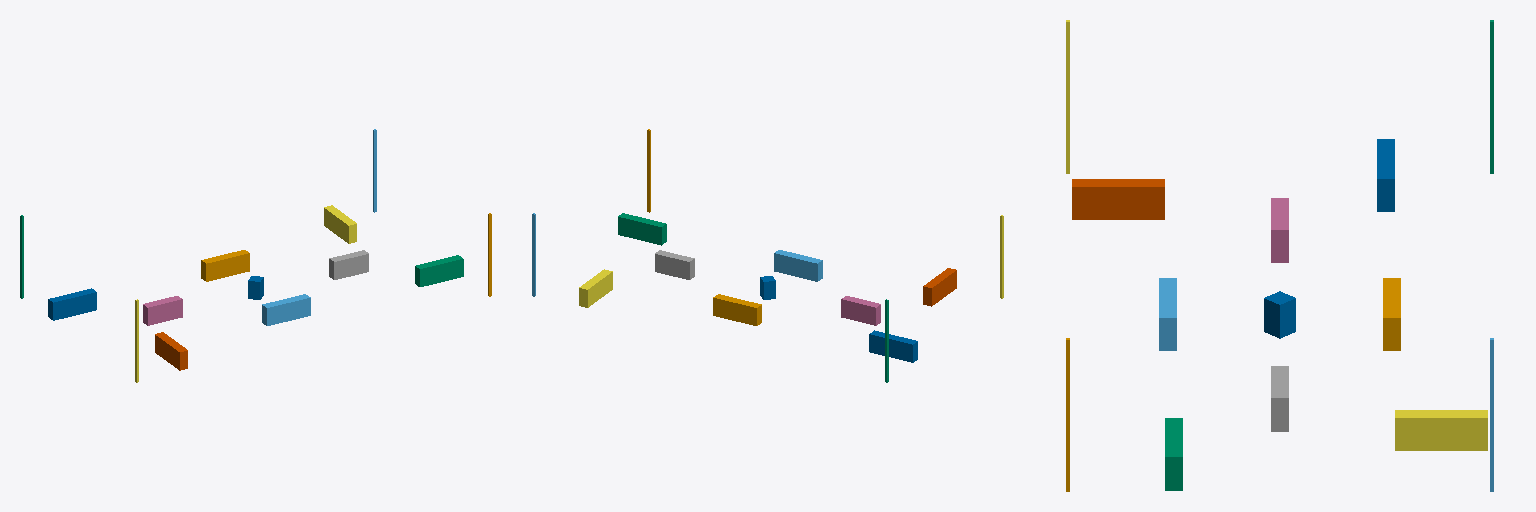
URDF robot description (unnamed):
<?xml version="1.0"?>
<!-- created with Phobos 1.0.1 "Capricious Choutengan" -->
  <robot name="unnamed">

    <link name="LA1">
      <inertial>
        <origin xyz="0 0 0" rpy="0 0 0"/>
        <mass value="0.001"/>
        <inertia ixx="0.001" ixy="0" ixz="0" iyy="0.001" iyz="0" izz="0.001"/>
      </inertial>
      <visual name="A1">
        <origin xyz="0 0 0" rpy="0 0 0"/>
        <geometry>
          <box size="1.0 0.2 0.4"/>
        </geometry>
      </visual>
      <collision name="A1">
        <origin xyz="0 0 0" rpy="0 0 0"/>
        <geometry>
          <box size="1.0 0.2 0.4"/>
        </geometry>
      </collision>
    </link>

    <link name="LA2">
      <inertial>
        <origin xyz="0 0 0" rpy="0 0 0"/>
        <mass value="0.001"/>
        <inertia ixx="0.001" ixy="0" ixz="0" iyy="0.001" iyz="0" izz="0.001"/>
      </inertial>
      <visual name="A2">
        <origin xyz="0 0 0" rpy="0 0 0"/>
        <geometry>
          <box size="1.0 0.2 0.4"/>
        </geometry>
      </visual>
      <collision name="A2">
        <origin xyz="0 0 0" rpy="0 0 0"/>
        <geometry>
          <box size="1.0 0.2 0.4"/>
        </geometry>
      </collision>
    </link>

    <link name="LA3">
      <inertial>
        <origin xyz="0 0 0" rpy="0 0 0"/>
        <mass value="0.001"/>
        <inertia ixx="0.001" ixy="0" ixz="0" iyy="0.001" iyz="0" izz="0.001"/>
      </inertial>
      <visual name="A3">
        <origin xyz="0 0 0" rpy="0 0 0"/>
        <geometry>
          <box size="1.0 0.2 0.4"/>
        </geometry>
      </visual>
      <collision name="A3">
        <origin xyz="0 0 0" rpy="0 0 0"/>
        <geometry>
          <box size="1.0 0.2 0.4"/>
        </geometry>
      </collision>
    </link>

    <link name="LA4">
      <inertial>
        <origin xyz="0 0 0" rpy="0 0 0"/>
        <mass value="0.001"/>
        <inertia ixx="0.001" ixy="0" ixz="0" iyy="0.001" iyz="0" izz="0.001"/>
      </inertial>
      <visual name="A4">
        <origin xyz="0 0 0" rpy="0 0 0"/>
        <geometry>
          <box size="1.0 0.2 0.4"/>
        </geometry>
      </visual>
      <collision name="A4">
        <origin xyz="0 0 0" rpy="0 0 0"/>
        <geometry>
          <box size="1.0 0.2 0.4"/>
        </geometry>
      </collision>
    </link>

    <link name="LA5">
      <inertial>
        <origin xyz="0 0 0" rpy="0 0 0"/>
        <mass value="0.001"/>
        <inertia ixx="0.001" ixy="0" ixz="0" iyy="0.001" iyz="0" izz="0.001"/>
      </inertial>
      <visual name="A5">
        <origin xyz="0 0 0" rpy="0 0 0"/>
        <geometry>
          <box size="1.0 0.2 0.4"/>
        </geometry>
      </visual>
      <collision name="A5">
        <origin xyz="0 0 0" rpy="0 0 0"/>
        <geometry>
          <box size="1.0 0.2 0.4"/>
        </geometry>
      </collision>
    </link>

    <link name="LA6">
      <inertial>
        <origin xyz="0 0 0" rpy="0 0 0"/>
        <mass value="0.001"/>
        <inertia ixx="0.001" ixy="0" ixz="0" iyy="0.001" iyz="0" izz="0.001"/>
      </inertial>
      <visual name="A6">
        <origin xyz="0 0 0" rpy="0 0 0"/>
        <geometry>
          <box size="1.0 0.2 0.4"/>
        </geometry>
      </visual>
      <collision name="A6">
        <origin xyz="0 0 0" rpy="0 0 0"/>
        <geometry>
          <box size="1.0 0.2 0.4"/>
        </geometry>
      </collision>
    </link>

    <link name="LB1">
      <inertial>
        <origin xyz="0 0 0" rpy="0 0 0"/>
        <mass value="0.001"/>
        <inertia ixx="0.001" ixy="0" ixz="0" iyy="0.001" iyz="0" izz="0.001"/>
      </inertial>
      <visual name="B1">
        <origin xyz="0 0 0" rpy="0 0 0"/>
        <geometry>
          <box size="0.8 0.2 0.4"/>
        </geometry>
      </visual>
      <collision name="B1">
        <origin xyz="0 0 0" rpy="0 0 0"/>
        <geometry>
          <box size="0.8 0.2 0.4"/>
        </geometry>
      </collision>
    </link>

    <link name="LB2">
      <inertial>
        <origin xyz="0 0 0" rpy="0 0 0"/>
        <mass value="0.001"/>
        <inertia ixx="0.001" ixy="0" ixz="0" iyy="0.001" iyz="0" izz="0.001"/>
      </inertial>
      <visual name="B2">
        <origin xyz="0 0 0" rpy="0 0 0"/>
        <geometry>
          <box size="0.8 0.2 0.4"/>
        </geometry>
      </visual>
      <collision name="B2">
        <origin xyz="0 0 0" rpy="0 0 0"/>
        <geometry>
          <box size="0.8 0.2 0.4"/>
        </geometry>
      </collision>
    </link>

    <link name="LD1">
      <inertial>
        <origin xyz="0 0 0" rpy="0 0 0"/>
        <mass value="0.001"/>
        <inertia ixx="0.001" ixy="0" ixz="0" iyy="0.001" iyz="0" izz="0.001"/>
      </inertial>
      <visual name="D1">
        <origin xyz="0 0 0" rpy="0 0 0"/>
        <geometry>
          <box size="0.05 0.05 1.8"/>
        </geometry>
      </visual>
      <collision name="D1">
        <origin xyz="0 0 0" rpy="0 0 0"/>
        <geometry>
          <box size="0.05 0.05 1.8"/>
        </geometry>
      </collision>
    </link>

    <link name="LD2">
      <inertial>
        <origin xyz="0 0 0" rpy="0 0 0"/>
        <mass value="0.001"/>
        <inertia ixx="0.001" ixy="0" ixz="0" iyy="0.001" iyz="0" izz="0.001"/>
      </inertial>
      <visual name="D2">
        <origin xyz="0 0 0" rpy="0 0 0"/>
        <geometry>
          <box size="0.05 0.05 1.8"/>
        </geometry>
      </visual>
      <collision name="D2">
        <origin xyz="0 0 0" rpy="0 0 0"/>
        <geometry>
          <box size="0.05 0.05 1.8"/>
        </geometry>
      </collision>
    </link>

    <link name="LD3">
      <inertial>
        <origin xyz="0 0 0" rpy="0 0 0"/>
        <mass value="0.001"/>
        <inertia ixx="0.001" ixy="0" ixz="0" iyy="0.001" iyz="0" izz="0.001"/>
      </inertial>
      <visual name="D3">
        <origin xyz="0 0 0" rpy="0 0 0"/>
        <geometry>
          <box size="0.05 0.05 1.8"/>
        </geometry>
      </visual>
      <collision name="D3">
        <origin xyz="0 0 0" rpy="0 0 0"/>
        <geometry>
          <box size="0.05 0.05 1.8"/>
        </geometry>
      </collision>
    </link>

    <link name="LD4">
      <inertial>
        <origin xyz="0 0 0" rpy="0 0 0"/>
        <mass value="0.001"/>
        <inertia ixx="0.001" ixy="0" ixz="0" iyy="0.001" iyz="0" izz="0.001"/>
      </inertial>
      <visual name="D4">
        <origin xyz="0 0 0" rpy="0 0 0"/>
        <geometry>
          <box size="0.05 0.05 1.8"/>
        </geometry>
      </visual>
      <collision name="D4">
        <origin xyz="0 0 0" rpy="0 0 0"/>
        <geometry>
          <box size="0.05 0.05 1.8"/>
        </geometry>
      </collision>
    </link>

    <link name="Lcenter">
      <inertial>
        <origin xyz="0 0 0" rpy="0 0 0"/>
        <mass value="0.001"/>
        <inertia ixx="0.001" ixy="0" ixz="0" iyy="0.001" iyz="0" izz="0.001"/>
      </inertial>
      <visual name="center">
        <origin xyz="0 0 0" rpy="0 0 0"/>
        <geometry>
          <box size="0.25 0.25 0.4"/>
        </geometry>
      </visual>
      <collision name="center">
        <origin xyz="0 0 0" rpy="0 0 0"/>
        <geometry>
          <box size="0.25 0.25 0.4"/>
        </geometry>
      </collision>
    </link>

<!-- A virtual link to organize all the links -->
    <link name="Lfield">
      <inertial>
        <origin xyz="0 0 0" rpy="0 0 0"/>
        <mass value="0.001"/>
        <inertia ixx="0.001" ixy="0" ixz="0" iyy="0.001" iyz="0" izz="0.001"/>
      </inertial>
    </link>

    <joint name="LA1" type="fixed">
      <origin xyz="0 1.205 -0.3" rpy="0 0 0"/>
      <parent link="Lfield"/>
      <child link="LA1"/>
    </joint>

    <joint name="LA2" type="fixed">
      <origin xyz="0 -1.205 -0.3" rpy="0 0 0"/>
      <parent link="Lfield"/>
      <child link="LA2"/>
    </joint>

    <joint name="LA3" type="fixed">
      <origin xyz="3.54 -1.14 -0.3" rpy="0 0 0"/>
      <parent link="Lfield"/>
      <child link="LA3"/>
    </joint>

    <joint name="LA4" type="fixed">
      <origin xyz="2.94 1.74 -0.3" rpy="0 0 1.5708"/>
      <parent link="Lfield"/>
      <child link="LA4"/>
    </joint>

    <joint name="LA5" type="fixed">
      <origin xyz="-3.54 1.14 -0.3" rpy="0 0 0"/>
      <parent link="Lfield"/>
      <child link="LA5"/>
    </joint>

    <joint name="LA6" type="fixed">
      <origin xyz="-2.94 -1.74 -0.3" rpy="0 0 1.5708"/>
      <parent link="Lfield"/>
      <child link="LA6"/>
    </joint>

    <joint name="LB1" type="fixed">
      <origin xyz="-2.14 0 -0.3" rpy="0 0 0"/>
      <parent link="Lfield"/>
      <child link="LB1"/>
    </joint>

    <joint name="LB2" type="fixed">
      <origin xyz="2.14 0 -0.3" rpy="0 0 0"/>
      <parent link="Lfield"/>
      <child link="LB2"/>
    </joint>

    <joint name="LD1" type="fixed">
      <origin xyz="4.04 -2.28 0.4" rpy="0 0 0"/>
      <parent link="Lfield"/>
      <child link="LD1"/>
    </joint>

    <joint name="LD2" type="fixed">
      <origin xyz="4.04 2.28 0.4" rpy="0 0 0"/>
      <parent link="Lfield"/>
      <child link="LD2"/>
    </joint>

    <joint name="LD3" type="fixed">
      <origin xyz="-4.04 2.28 0.4" rpy="0 0 0"/>
      <parent link="Lfield"/>
      <child link="LD3"/>
    </joint>

    <joint name="LD4" type="fixed">
      <origin xyz="-4.04 -2.28 0.4" rpy="0 0 0"/>
      <parent link="Lfield"/>
      <child link="LD4"/>
    </joint>

    <joint name="Lcenter" type="fixed">
      <origin xyz="0 0 -0.3" rpy="0 0 0.7854"/>
      <parent link="Lfield"/>
      <child link="Lcenter"/>
    </joint>

  </robot>

--- What the picture shows (computed from the rendered views, not written in the file) ---
3 views of the same robot in one strip: view 1: azimuth 30°, elevation 25°; view 2: azimuth 150°, elevation 25°; view 3: azimuth 270°, elevation 25° (orthographic).
Robot: unnamed — 14 links, 13 joints (13 fixed); root link Lfield; default pose: every joint at zero.
Visible links, largest first — view 1: LA5, LA1, LA2, LA3, LB1, LB2, LA4, LA6; view 2: LA3, LA1, LA2, LA5, LB1, LB2, LA4, LA6; view 3: LA4, LA6, LA1, LA2, LA3, LA5, Lcenter, LB2, LB1, LD1, LD2, LD3 (+1 smaller).
Boxes of the visible links, x1=… form: LA5: x1=48, y1=288, x2=96, y2=320; LA1: x1=201, y1=250, x2=249, y2=281; LA2: x1=262, y1=294, x2=310, y2=325; LA3: x1=415, y1=255, x2=463, y2=286; LB1: x1=143, y1=296, x2=182, y2=325; LB2: x1=329, y1=250, x2=368, y2=279; LA4: x1=324, y1=205, x2=356, y2=243; LA6: x1=155, y1=332, x2=187, y2=370; LA3: x1=618, y1=213, x2=666, y2=245; LA1: x1=713, y1=294, x2=761, y2=325; LA2: x1=774, y1=250, x2=822, y2=281; LA5: x1=869, y1=330, x2=917, y2=362; LB1: x1=841, y1=296, x2=880, y2=325; LB2: x1=655, y1=250, x2=694, y2=279; LA4: x1=579, y1=269, x2=612, y2=307; LA6: x1=923, y1=268, x2=956, y2=306; LA4: x1=1395, y1=410, x2=1487, y2=450; LA6: x1=1072, y1=179, x2=1164, y2=219; LA1: x1=1383, y1=278, x2=1400, y2=350; LA2: x1=1159, y1=278, x2=1176, y2=350; LA3: x1=1165, y1=418, x2=1182, y2=490; LA5: x1=1377, y1=139, x2=1394, y2=211; Lcenter: x1=1264, y1=291, x2=1295, y2=338; LB2: x1=1271, y1=366, x2=1288, y2=431; LB1: x1=1271, y1=198, x2=1288, y2=262; LD1: x1=1066, y1=338, x2=1069, y2=491; LD2: x1=1490, y1=338, x2=1493, y2=491; LD3: x1=1490, y1=20, x2=1493, y2=173.
Size in the robot's own frame: 8.13 by 4.61 by 1.8 metres.
Geometry: primitives only (box / cylinder / sphere), no mesh files.